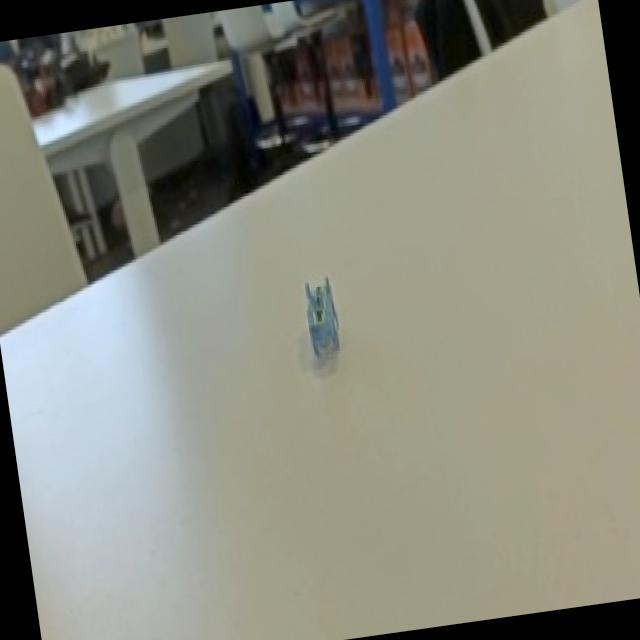3_NanoBug_Celeste: (279, 256, 382, 392)
